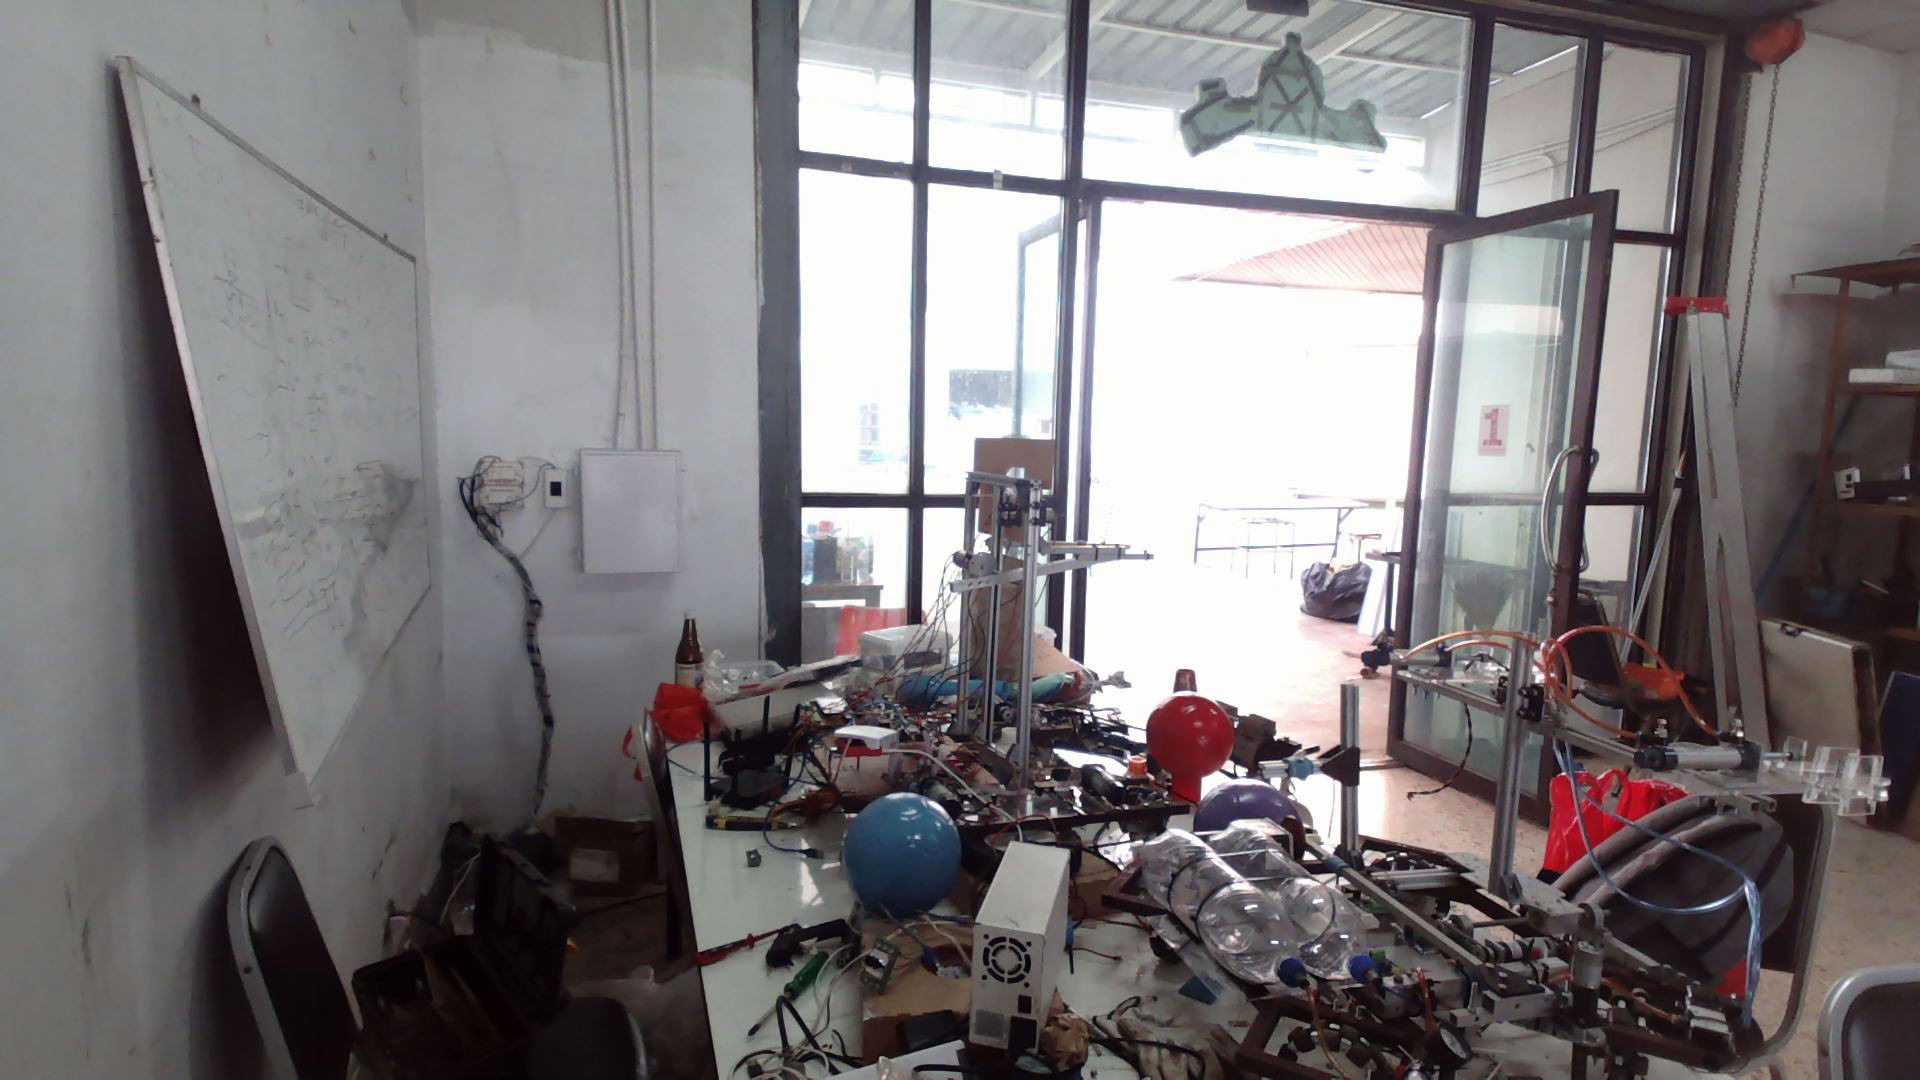Blue ball: (841, 790, 963, 913)
Purple ball: (1192, 778, 1303, 833)
Red ball: (1145, 690, 1236, 778)
